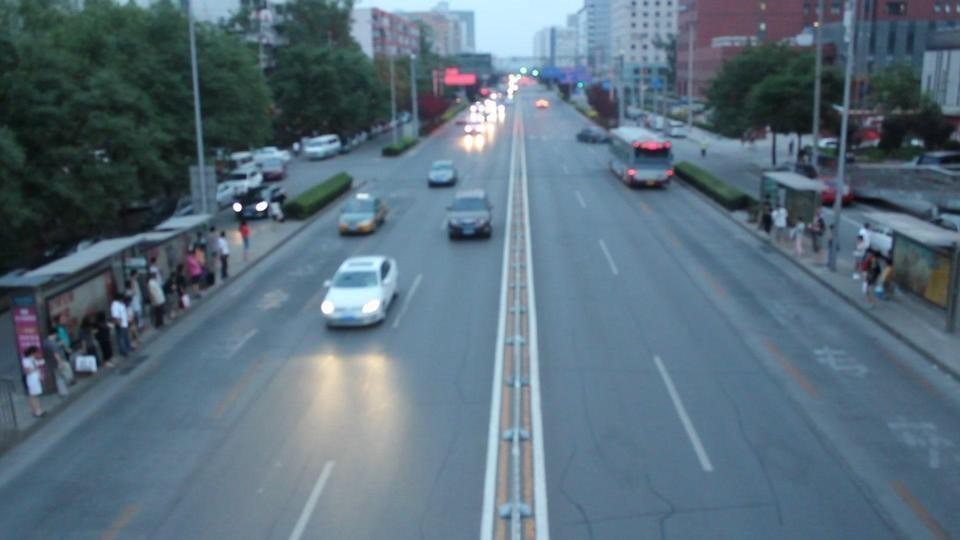car: (320, 255, 400, 329), (445, 190, 494, 240), (337, 193, 389, 236), (215, 173, 264, 207), (232, 193, 286, 221), (253, 149, 287, 181), (301, 134, 341, 161), (426, 160, 457, 188), (915, 150, 960, 169), (576, 126, 607, 144), (534, 97, 550, 109)
